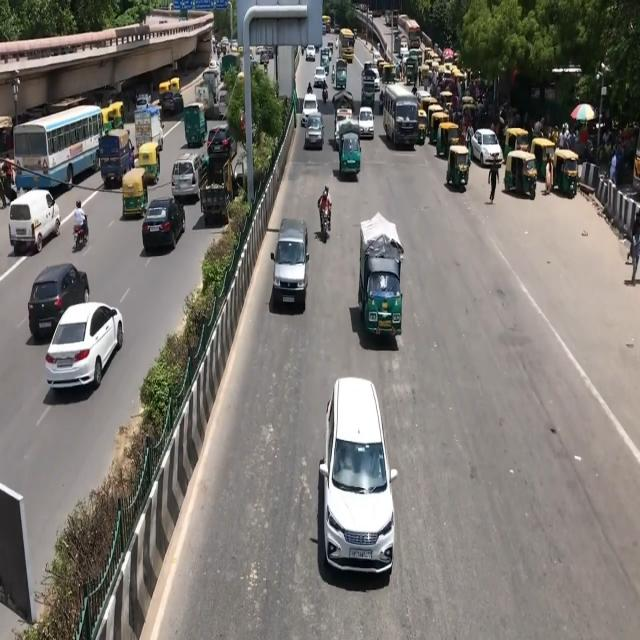Bike: (315, 181, 334, 250)
Car: (320, 378, 402, 586), (37, 304, 126, 402), (268, 214, 308, 326), (140, 170, 184, 254)
Tempo: (356, 202, 410, 348), (338, 126, 365, 186)
